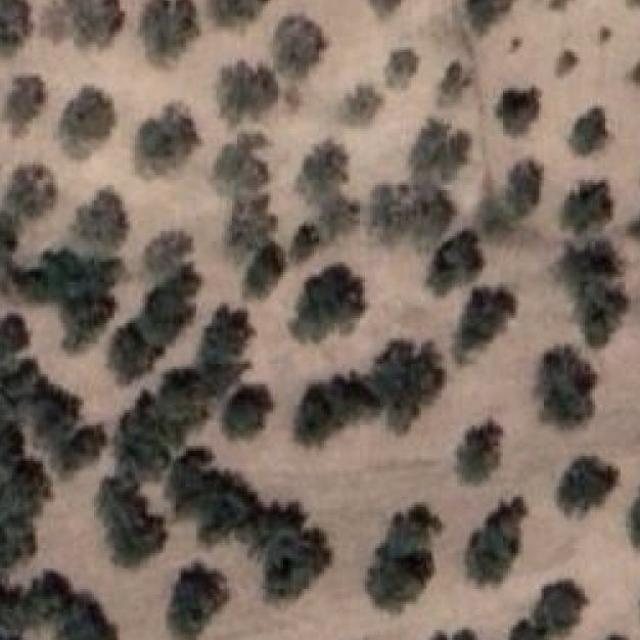Tree: (108, 265, 202, 383), (164, 449, 260, 544), (0, 384, 48, 572), (365, 504, 442, 611), (557, 239, 628, 349), (295, 139, 360, 239), (95, 476, 166, 566), (381, 341, 447, 436), (296, 374, 380, 446), (287, 265, 362, 343), (370, 180, 450, 249), (465, 500, 524, 585), (166, 561, 227, 640), (537, 347, 597, 426), (454, 287, 515, 364), (133, 103, 198, 175), (265, 531, 329, 599), (57, 86, 115, 159), (407, 119, 469, 182), (138, 0, 199, 63), (217, 60, 276, 125), (425, 231, 483, 294), (197, 306, 255, 369), (557, 456, 618, 515), (72, 188, 130, 250), (213, 133, 268, 196), (272, 16, 326, 79), (530, 582, 586, 637), (456, 420, 503, 485), (224, 195, 275, 254), (3, 164, 58, 218), (252, 502, 306, 557), (60, 294, 111, 350), (58, 594, 118, 640), (22, 572, 74, 622), (562, 180, 610, 234), (67, 0, 121, 48), (227, 384, 273, 438), (244, 241, 286, 299), (4, 76, 45, 135), (505, 159, 544, 218), (144, 231, 191, 277), (0, 586, 38, 640), (495, 88, 536, 135), (65, 426, 106, 472), (570, 108, 608, 156), (340, 86, 382, 128), (0, 0, 31, 55), (466, 0, 515, 34), (208, 0, 268, 26), (0, 315, 28, 364), (438, 62, 469, 106), (384, 50, 418, 89), (628, 484, 640, 549), (510, 619, 547, 640), (420, 630, 485, 640), (370, 0, 403, 17), (556, 51, 577, 76), (599, 27, 613, 43)
